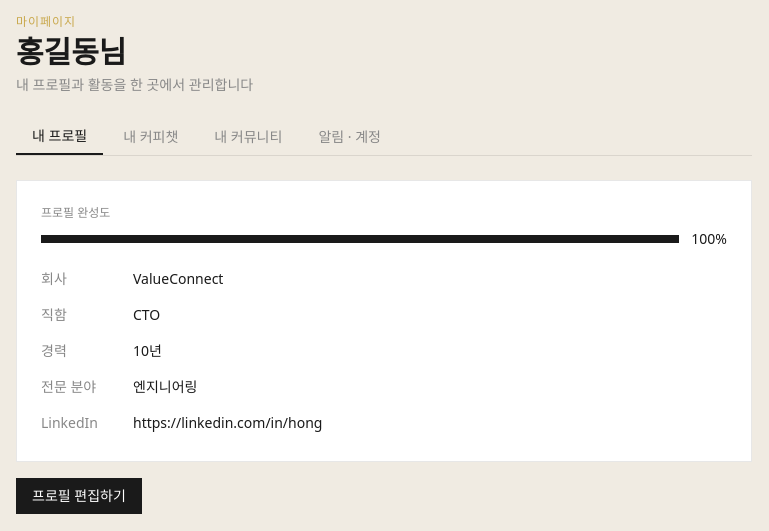
Test: /me MeClient › switches to account tab and shows email
Click the tab with test id "me-tab-account". click: coordinates (350, 137)
box: [302, 119, 397, 155]
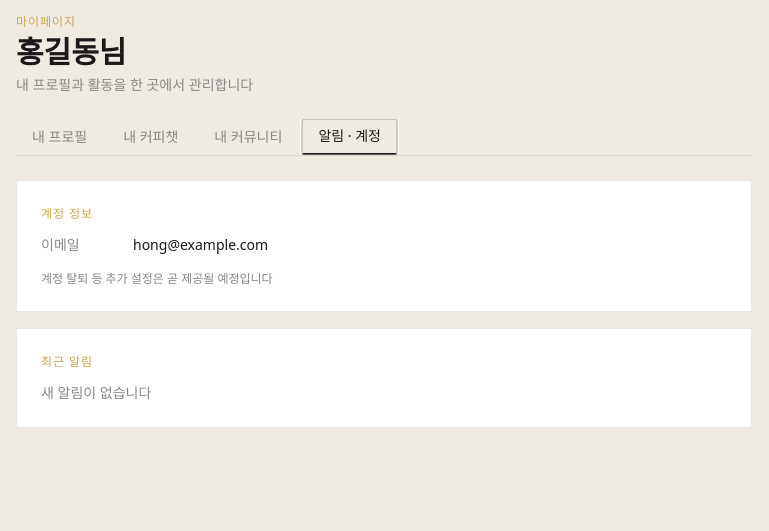
Now the panel with test id "me-panel-account" is shown, box [16, 180, 752, 428]
Now the text "hong@example.com" is shown, box [133, 235, 268, 255]
